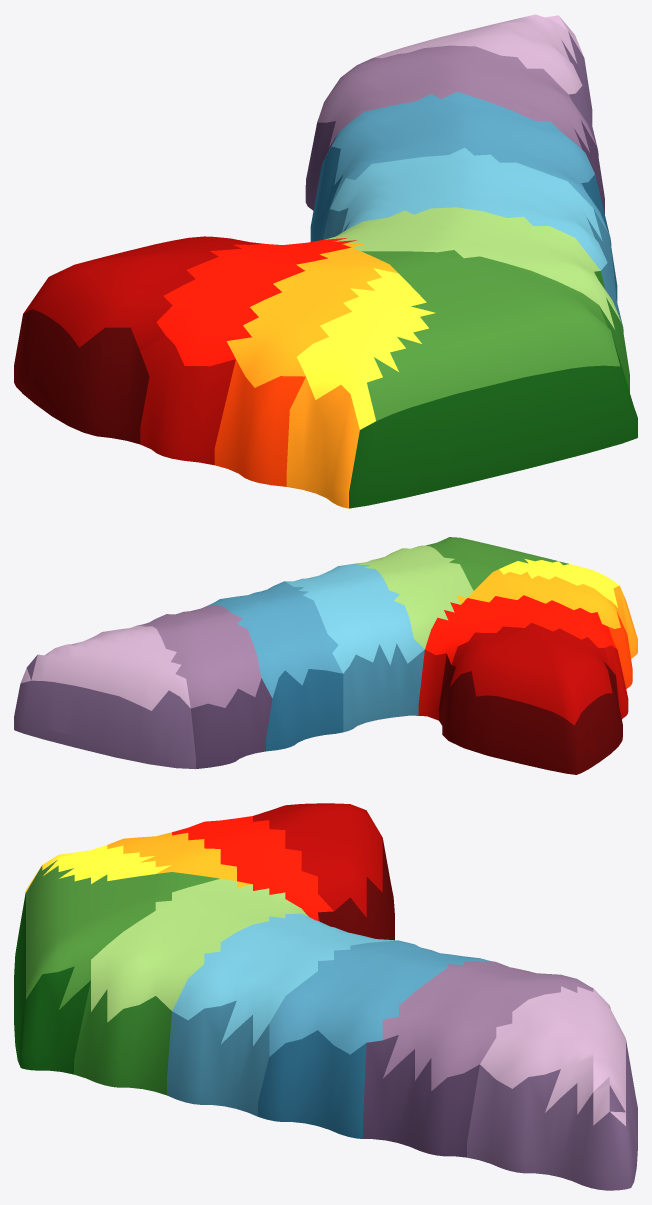
The model's file is check_rainbow.glb.
3 renders of one model, top to bottom at view 1: azimuth 30°, elevation 25°; view 2: azimuth 150°, elevation 25°; view 3: azimuth 270°, elevation 25°, orthographic. The views are drawn at different scales.
Visible parts, largest first — view 1: tick; view 2: tick; view 3: tick.
Boxes of the visible parts, box(x1,y1,x2,y2) form: tick: box(14, 14, 637, 508); tick: box(14, 537, 637, 774); tick: box(14, 803, 637, 1190).
Bounding box in the file's own units: 17.4 × 3.5 × 15.4.
